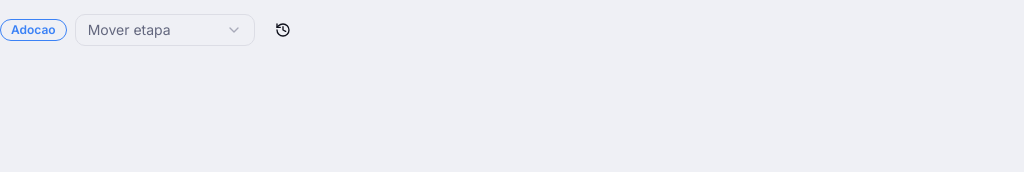
Test case: AccountJourneyControl › abre o historico da conta e lista as transicoes
What coordinates should you click on to do the following:
click the button titled "Historico da jornada"
I would click on:
 (283, 30)
Its box is [263,12,303,48].
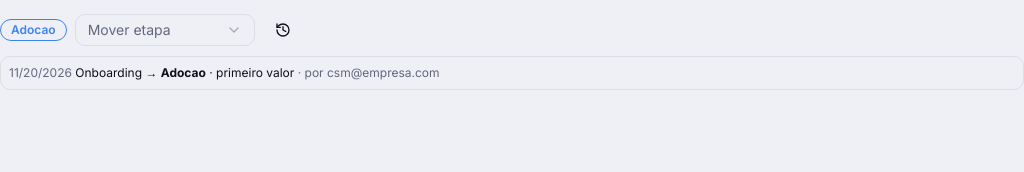
Expected: the element named "Historico da jornada de Acme" shows "Onboarding", [75,65,142,80]
Expected: the element named "Historico da jornada de Acme" shows "primeiro valor", [206,65,294,80]
Expected: the element named "Historico da jornada de Acme" shows "csm@empresa.com", [327,65,440,80]
